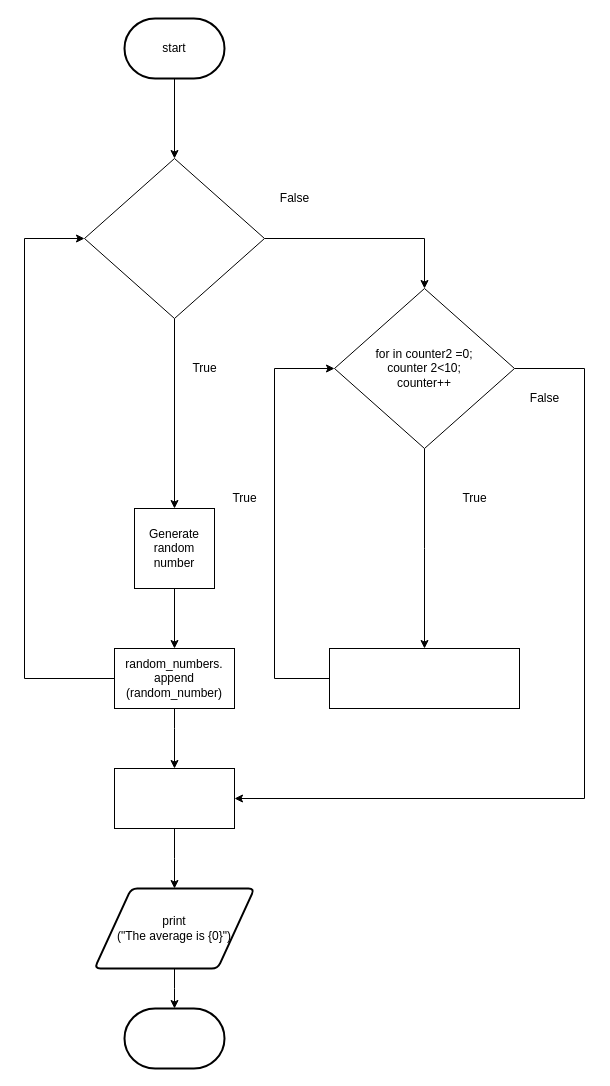
Some shapes in this 610 by 1086 pixel diagram are drawn without their labels. Here are the shapes that lost their labels. From the top down, the centre of each, then its label:
At point (174, 238): "for in counter =0; counter <10; counter++".
At point (424, 678): "numbers_average = random_numbers[counter2] + numbers_average (random_number)".
At point (174, 798): "numbers_average = numbers average / len(random numbers)".
